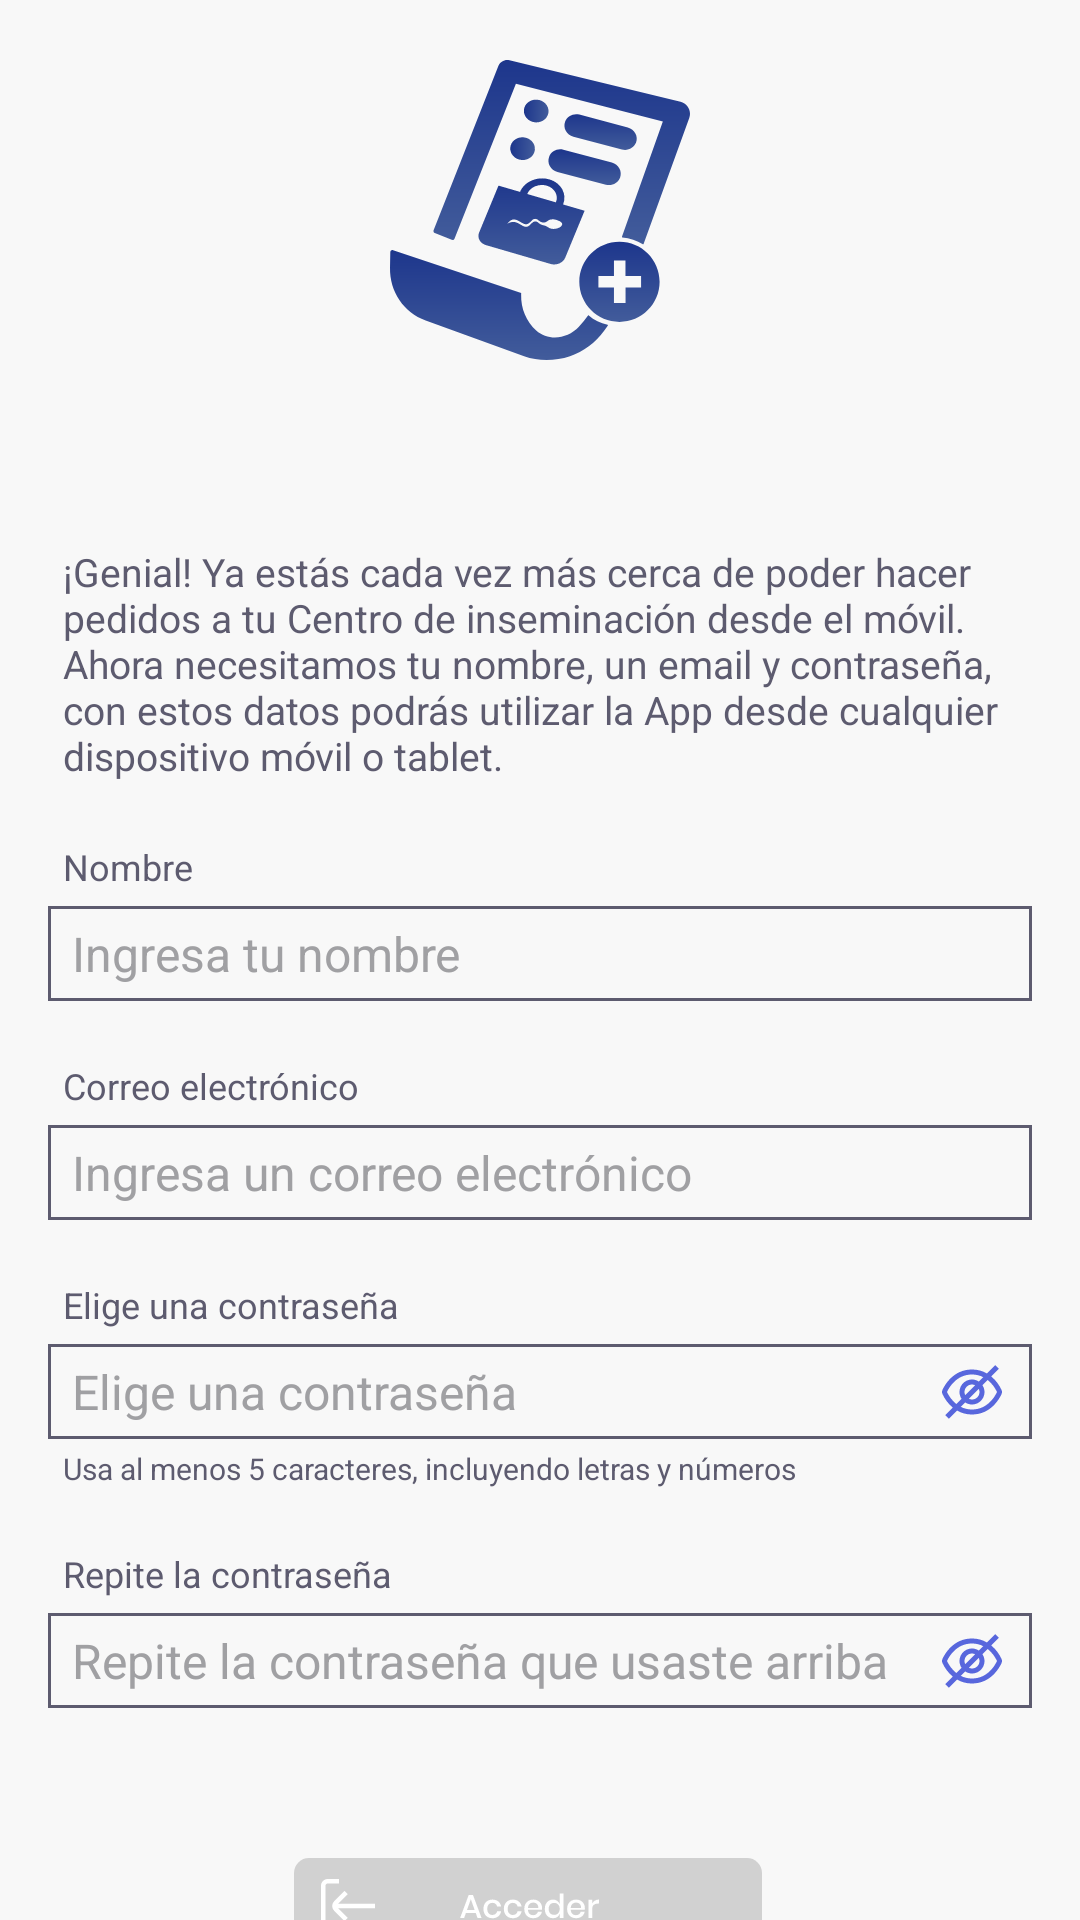

Screen size 1080 x 1920. Icon name, then its box in pixels as bbox=(x1, y1, x2, y2):
ojo password: bbox=(942, 1365, 1002, 1419), bbox=(942, 1634, 1002, 1688)
pedidos azul: bbox=(390, 60, 690, 360)
